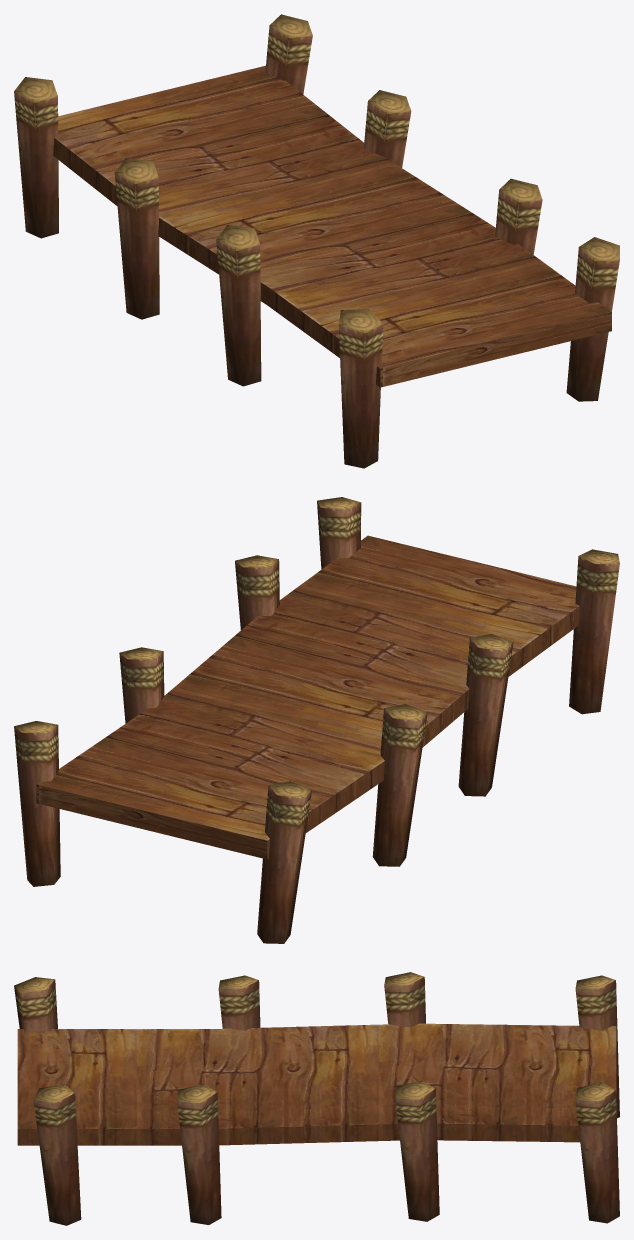
Rendered from environment_Building_luoxiapengdi_001_b.FBX.
3 renders of one model, top to bottom at view 1: azimuth 30°, elevation 25°; view 2: azimuth 150°, elevation 25°; view 3: azimuth 270°, elevation 25°, orthographic. The views are drawn at different scales.
Visible parts, largest first — view 1: environment_Building_luoxiapengdi_001_b1, environment_Building_luoxiapengdi_001_b2; view 2: environment_Building_luoxiapengdi_001_b1, environment_Building_luoxiapengdi_001_b2; view 3: environment_Building_luoxiapengdi_001_b1, environment_Building_luoxiapengdi_001_b2.
Part boxes in pixels (bbox=[...]): environment_Building_luoxiapengdi_001_b1: bbox=[53, 65, 611, 387]; environment_Building_luoxiapengdi_001_b2: bbox=[14, 14, 619, 468]; environment_Building_luoxiapengdi_001_b1: bbox=[36, 535, 579, 859]; environment_Building_luoxiapengdi_001_b2: bbox=[14, 497, 619, 943]; environment_Building_luoxiapengdi_001_b1: bbox=[17, 1023, 616, 1145]; environment_Building_luoxiapengdi_001_b2: bbox=[14, 972, 619, 1225].
Size of the model in its own units: 920 by 1797 by 437.
